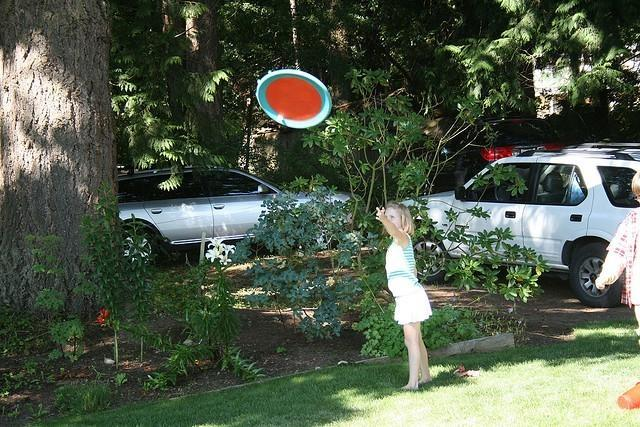car: (401, 141, 640, 308), (116, 165, 367, 265)
